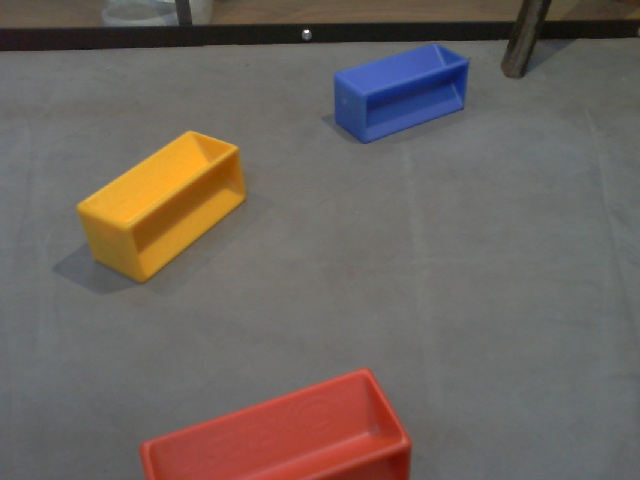BlueSample: (332, 42, 468, 142)
RedSample: (138, 365, 416, 479)
YellowSample: (72, 128, 250, 286)
